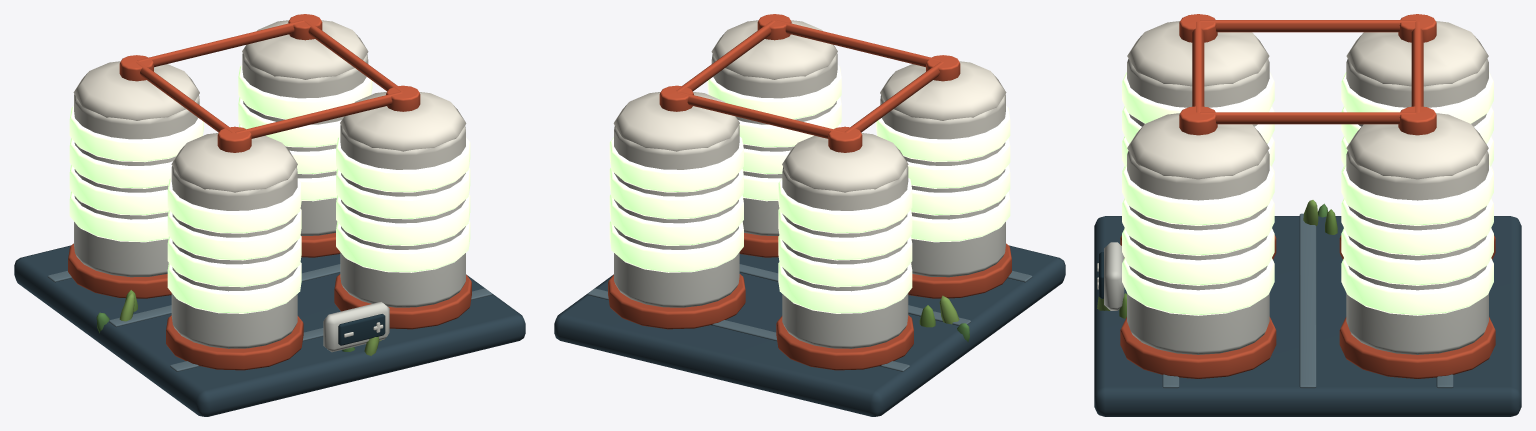
Rendered from battery.glb.
3 renders of one model, left to right at view 1: azimuth 30°, elevation 25°; view 2: azimuth 150°, elevation 25°; view 3: azimuth 270°, elevation 25°, orthographic. The views are drawn at different scales.
Visible parts, largest first — view 1: Battery_timber_deck, charge_3, charge_2, charge_1, charge_0, Battery_ceramic_cell, Battery_ceramic_cell.001, Battery_ceramic_cell.002, Battery_ceramic_cap, Battery_ceramic_cap.001, Battery_ceramic_cap.002, Battery_ceramic_cell.003 (+17 smaller); view 2: Battery_timber_deck, charge_3, charge_2, charge_1, charge_0, Battery_ceramic_cell.002, Battery_ceramic_cell.003, Battery_ceramic_cell, Battery_ceramic_cap.002, Battery_ceramic_cap.003, Battery_ceramic_cap, Battery_ceramic_cell.001 (+15 smaller); view 3: Battery_timber_deck, charge_3, Battery_ceramic_cell.001, Battery_ceramic_cell.003, charge_2, charge_1, charge_0, Battery_ceramic_cap.001, Battery_ceramic_cap.003, Battery_ceramic_cap, Battery_ceramic_cap.002, Battery_copper_foot.001 (+13 smaller).
Part boxes in pixels (<box>): Battery_timber_deck: <box>14,245,525,416</box>; charge_3: <box>69,65,470,233</box>; charge_2: <box>69,97,470,260</box>; charge_1: <box>69,123,470,287</box>; charge_0: <box>69,175,470,313</box>; Battery_ceramic_cell: <box>171,166,297,348</box>; Battery_ceramic_cell.001: <box>340,125,465,307</box>; Battery_ceramic_cell.002: <box>74,94,199,277</box>; Battery_ceramic_cap: <box>171,133,297,192</box>; Battery_ceramic_cap.001: <box>340,92,466,151</box>; Battery_ceramic_cap.002: <box>73,61,199,120</box>; Battery_ceramic_cell.003: <box>242,53,368,235</box>; Battery_timber_deck: <box>554,245,1065,416</box>; charge_3: <box>609,65,1010,233</box>; charge_2: <box>609,97,1010,260</box>; charge_1: <box>609,123,1010,287</box>; charge_0: <box>609,175,1010,313</box>; Battery_ceramic_cell.002: <box>782,166,908,348</box>; Battery_ceramic_cell.003: <box>614,125,739,307</box>; Battery_ceramic_cell: <box>880,94,1005,277</box>; Battery_ceramic_cap.002: <box>782,133,908,192</box>; Battery_ceramic_cap.003: <box>613,92,739,151</box>; Battery_ceramic_cap: <box>880,61,1006,120</box>; Battery_ceramic_cell.001: <box>711,53,837,235</box>; Battery_timber_deck: <box>1094,216,1521,416</box>; charge_3: <box>1122,72,1493,225</box>; Battery_ceramic_cell.001: <box>1127,151,1269,354</box>; Battery_ceramic_cell.003: <box>1346,151,1488,354</box>; charge_2: <box>1122,106,1493,255</box>; charge_1: <box>1122,136,1493,285</box>; charge_0: <box>1122,166,1493,315</box>; Battery_ceramic_cap.001: <box>1127,113,1269,179</box>; Battery_ceramic_cap.003: <box>1346,113,1488,179</box>; Battery_ceramic_cap: <box>1127,21,1269,86</box>; Battery_ceramic_cap.002: <box>1346,21,1488,86</box>; Battery_copper_foot.001: <box>1120,317,1276,378</box>.
Size of the model in its own units: 1.56 by 1.07 by 1.56.
